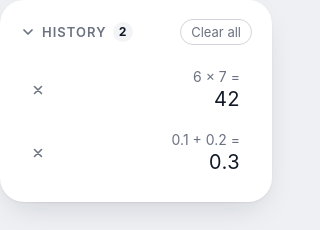
Test: History › asks for confirmation before clearing everything
Click the button "Clear all": (216, 32) 180,19 -> 252,45
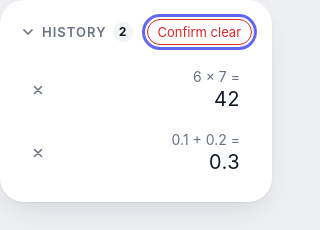
Click the button "Confirm clear": (199, 32) 146,19 -> 252,45
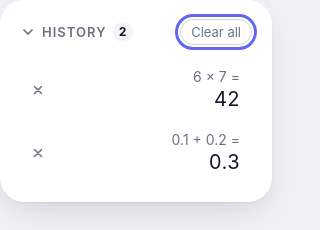
expect the button "Clear all" is shown: met, box 180,19 -> 252,45
